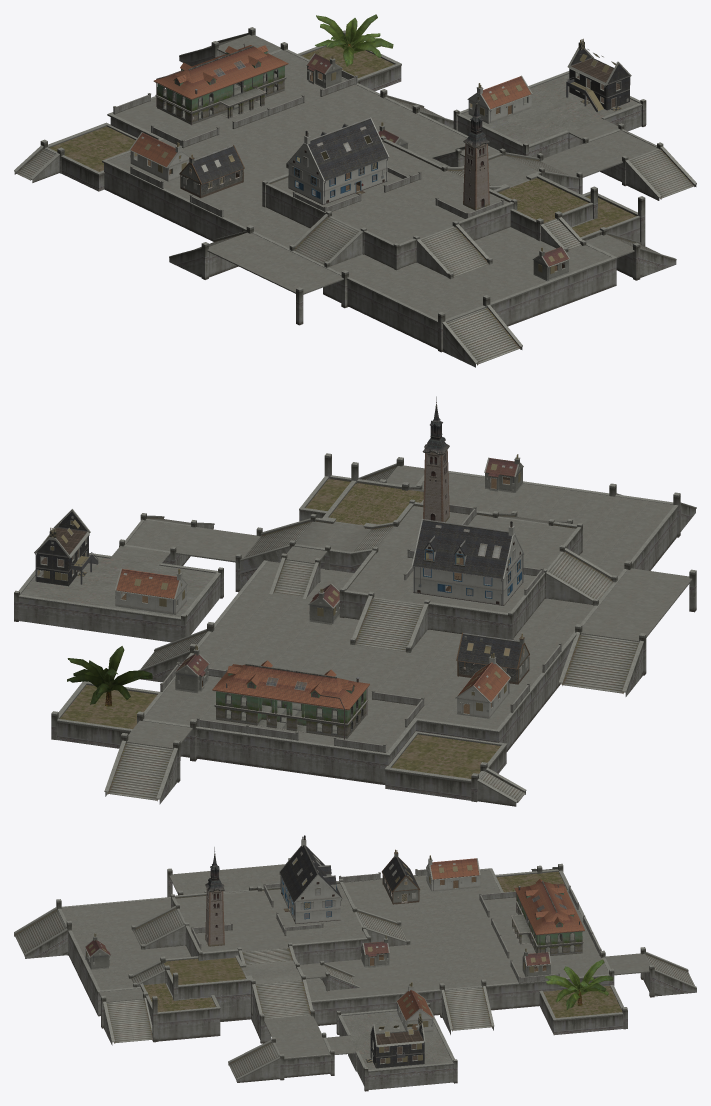
Rendered from map.glb.
3 renders of one model, top to bottom at view 1: azimuth 30°, elevation 25°; view 2: azimuth 150°, elevation 25°; view 3: azimuth 270°, elevation 25°, orthographic. The views are drawn at different scales.
Visible parts, largest first — view 1: Base_02_LOD0_0, mansion_LOD0_2, mansion_LOD0_3, Zone_A_House_Huge_A_LOD0_1, Zone_A_House_Huge_A_LOD0_2, Tower_01_LOD0_0, Mesh_0002.rip.002, Zone_A_House_Big_B_LOD0_1, Zone_A_House_Huge_A_LOD0_0, Zone_A_House_Big_B_LOD0_2, Zone_A_House_Medium_B_LOD0_3.002, Zone_A_House_Medium_A_LOD0_3 (+7 smaller); view 2: Base_02_LOD0_0, mansion_LOD0_2, Zone_A_House_Huge_A_LOD0_1, mansion_LOD0_3, Zone_A_House_Huge_A_LOD0_2, Tower_01_LOD0_0, Zone_A_House_Huge_A_LOD0_0, Mesh_0002.rip.002, Zone_A_House_Big_B_LOD0_1, Zone_A_House_Big_B_LOD0_2, Zone_A_House_Medium_B_LOD0_3.002, Zone_A_House_Medium_A_LOD0_3 (+8 smaller); view 3: Base_02_LOD0_0, mansion_LOD0_2, Zone_A_House_Huge_A_LOD0_1, Zone_A_House_Huge_A_LOD0_2, mansion_LOD0_3, Tower_01_LOD0_0, Mesh_0002.rip.002, Zone_A_House_Big_B_LOD0_1, Zone_A_House_Big_B_LOD0_2, Zone_A_House_Huge_A_LOD0_0, Zone_A_House_Medium_A_LOD0_3.007, Zone_A_House_Medium_B_LOD0_3.002 (+6 smaller).
Part boxes in pixels (x1,y1,x2,y2): Base_02_LOD0_0: (14,27,696,367); mansion_LOD0_2: (153,45,288,116); mansion_LOD0_3: (155,44,287,125); Zone_A_House_Huge_A_LOD0_1: (308,118,387,180); Zone_A_House_Huge_A_LOD0_2: (288,136,387,204); Tower_01_LOD0_0: (463,95,489,210); Mesh_0002.rip.002: (315,14,393,66); Zone_A_House_Big_B_LOD0_1: (566,38,631,112); Zone_A_House_Huge_A_LOD0_0: (287,117,389,204); Zone_A_House_Big_B_LOD0_2: (569,41,630,111); Zone_A_House_Medium_B_LOD0_3.002: (193,145,243,188); Zone_A_House_Medium_A_LOD0_3: (481,76,531,109); Base_02_LOD0_0: (14,453,696,806); mansion_LOD0_2: (212,660,369,731); Zone_A_House_Huge_A_LOD0_1: (413,519,511,578); mansion_LOD0_3: (213,673,368,739); Zone_A_House_Huge_A_LOD0_2: (413,526,522,605); Tower_01_LOD0_0: (422,396,449,522); Zone_A_House_Huge_A_LOD0_0: (411,518,524,605); Mesh_0002.rip.002: (67,646,152,706); Zone_A_House_Big_B_LOD0_1: (34,509,98,584); Zone_A_House_Big_B_LOD0_2: (36,511,88,586); Zone_A_House_Medium_B_LOD0_3.002: (457,633,521,671); Zone_A_House_Medium_A_LOD0_3: (116,568,178,598); Base_02_LOD0_0: (14,858,696,1091); mansion_LOD0_2: (512,879,584,943); Zone_A_House_Huge_A_LOD0_1: (280,845,340,908); Zone_A_House_Huge_A_LOD0_2: (281,839,340,923); mansion_LOD0_3: (510,884,584,955); Tower_01_LOD0_0: (205,847,224,946); Mesh_0002.rip.002: (545,959,613,1010); Zone_A_House_Big_B_LOD0_1: (366,1015,425,1065); Zone_A_House_Big_B_LOD0_2: (366,1017,424,1068); Zone_A_House_Huge_A_LOD0_0: (279,835,342,923); Zone_A_House_Medium_A_LOD0_3.007: (430,858,479,879); Zone_A_House_Medium_B_LOD0_3.002: (382,856,419,901).
Bounding box in the file's own units: 92.96 × 27.56 × 121.
38 materials, 38 textured.
